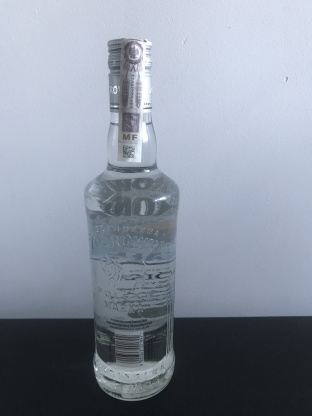nakretka: (104, 33, 155, 116)
